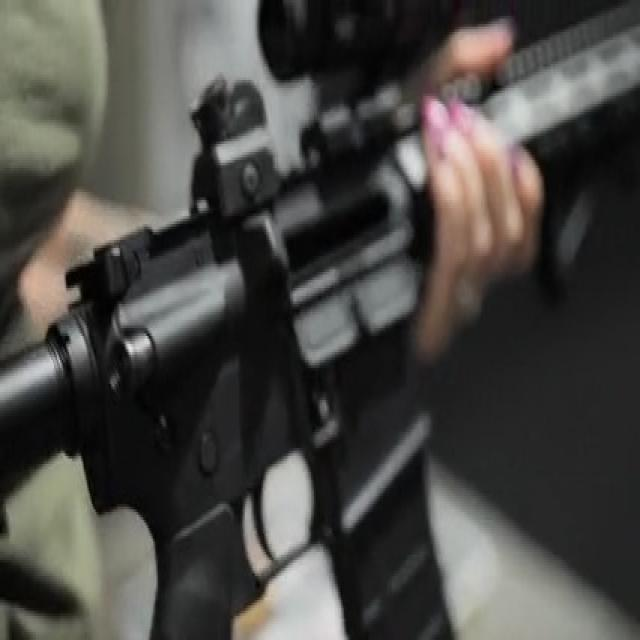Gun_Holder: (16, 0, 640, 632)
